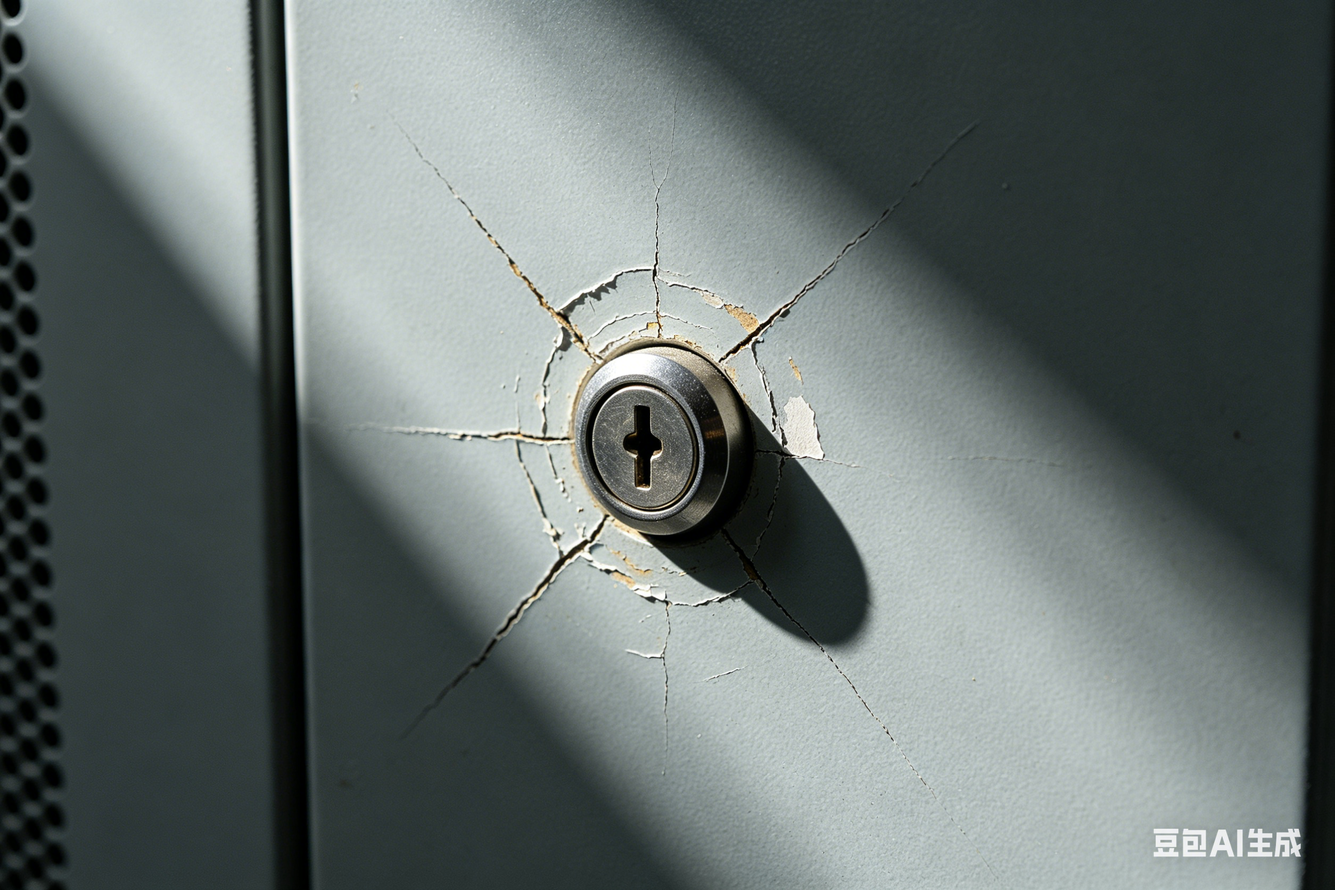BadLock: (504, 268, 830, 604)
